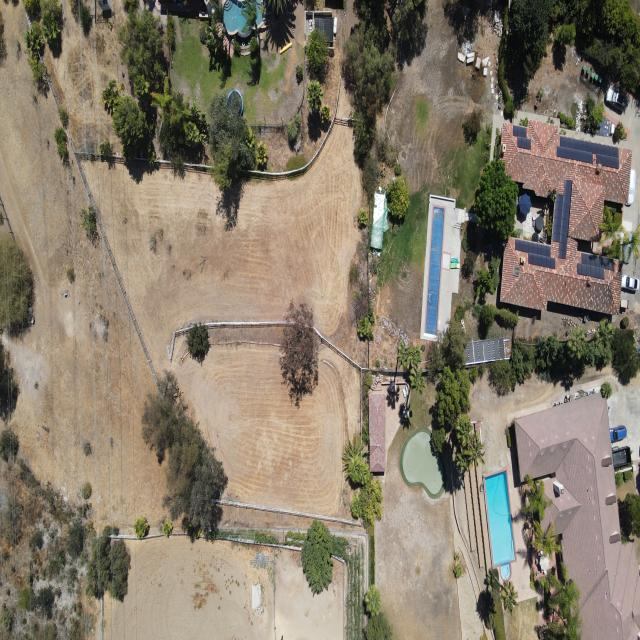solar-panels: (554, 136, 623, 169), (551, 179, 572, 259), (511, 239, 559, 269), (575, 252, 617, 281), (462, 337, 506, 364), (314, 17, 334, 42), (513, 125, 531, 150)
